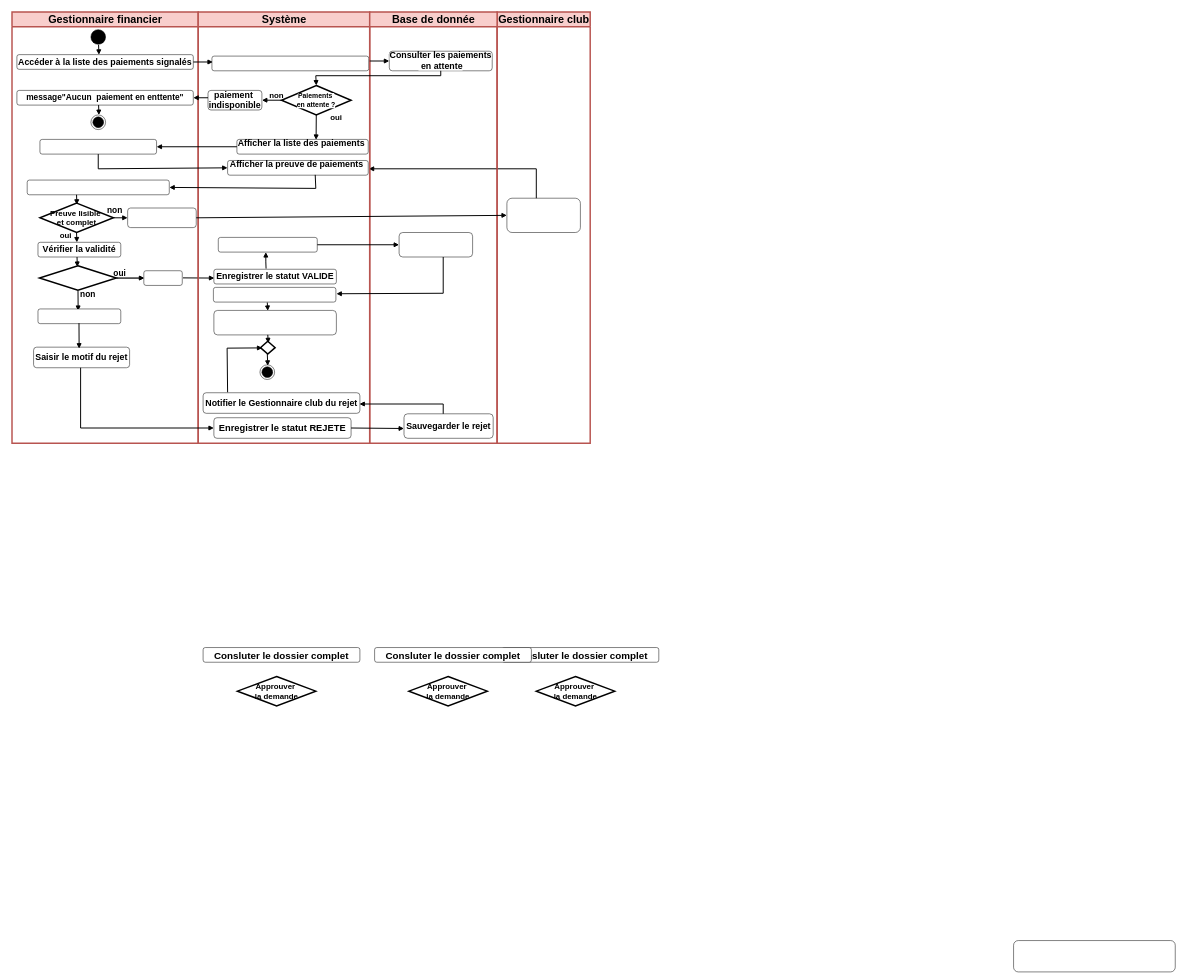
This 1184x980 diagram has some shape labels left out. The box of each missing label's shape, as (x1, y1, x2, y2) in pixels:
Demander une nouvelle preuve: (127, 208, 196, 228)
Horodater la validation: (218, 237, 317, 252)
Mettre a jours le satut (candidation/affiliation): (213, 310, 336, 335)
Notifier le Gestionnaire Ligue: (213, 287, 336, 302)
paiement valider: (38, 265, 117, 291)
Rechercher les paiements en attente: (211, 56, 369, 71)
Rejeter paiement: (37, 308, 121, 324)
Sauvegarder le paiement validé: (399, 232, 473, 257)
Selectionner un paiements: (39, 139, 157, 154)
transmettre nouvelle preuve: (506, 198, 580, 233)
valider: (143, 270, 182, 285)
Vérifier la conformité(date......): (27, 180, 169, 195)
